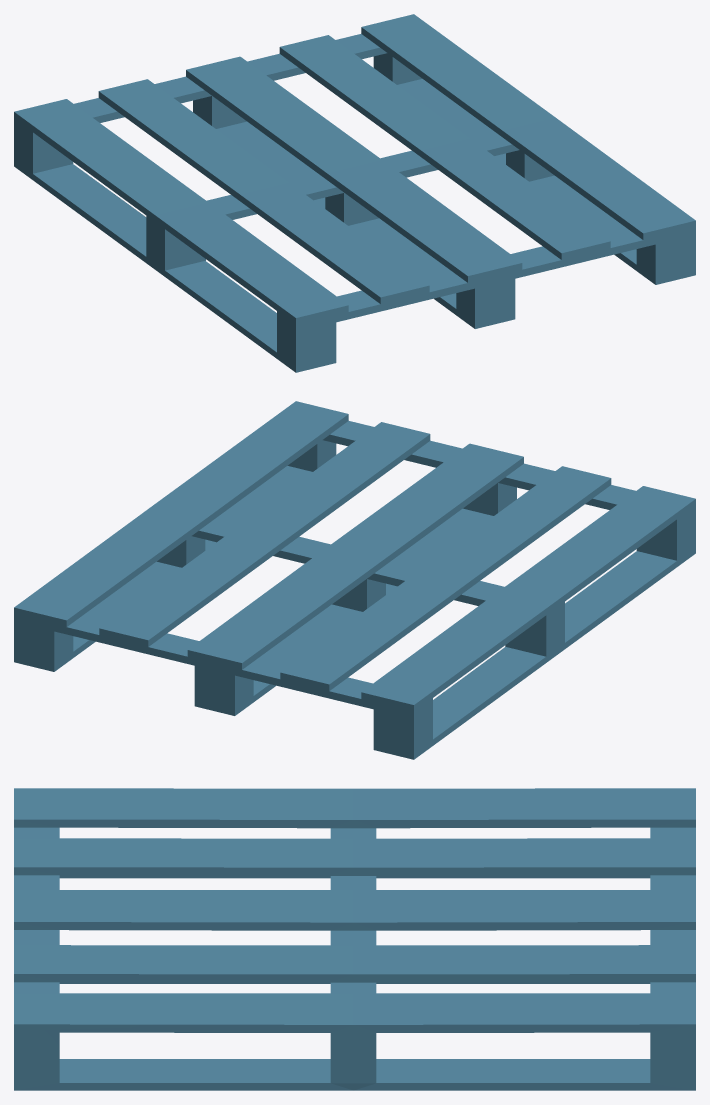
The model's file is GJ_Decor_Palet.fbx.
3 renders of one model, top to bottom at view 1: azimuth 30°, elevation 25°; view 2: azimuth 150°, elevation 25°; view 3: azimuth 270°, elevation 25°, orthographic. The views are drawn at different scales.
Visible parts, largest first — view 1: GJ_Decor_Palet; view 2: GJ_Decor_Palet; view 3: GJ_Decor_Palet.
Part boxes in pixels (x1,y1,x2,y2): GJ_Decor_Palet: (14,14,695,372); GJ_Decor_Palet: (14,401,695,759); GJ_Decor_Palet: (14,788,695,1090).
Size of the model in its own units: 8.83 by 1.15 by 10.77.
